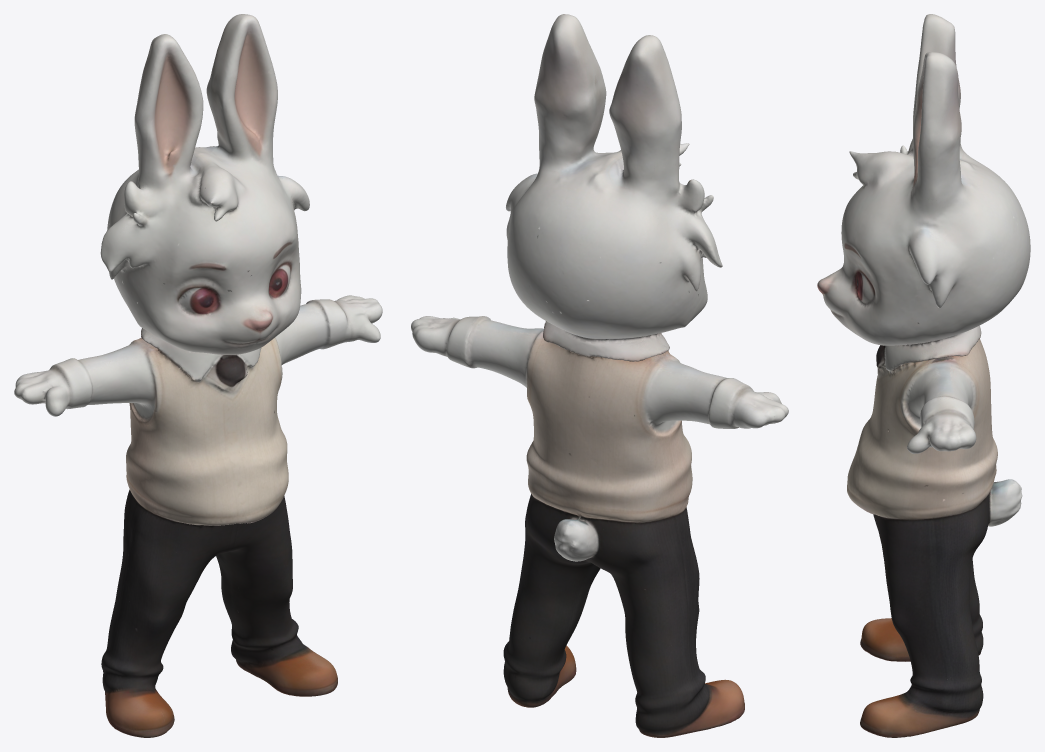
The model's file is Meshy_AI_Dapper_Bunny_0504092626_texture.fbx.
3 views of the same model, side by side, from view 1: azimuth 30°, elevation 25°; view 2: azimuth 150°, elevation 25°; view 3: azimuth 270°, elevation 25° (orthographic). The views are drawn at different scales.
Visible parts, largest first — view 1: Mesh_0; view 2: Mesh_0; view 3: Mesh_0.
Part boxes in pixels (box(x1,y1,x2,y2)): Mesh_0: box(14, 14, 382, 737); Mesh_0: box(411, 14, 788, 737); Mesh_0: box(817, 14, 1030, 737).
Bounding box in the file's own units: 114 × 200 × 58.99.
Materials: 1 (1 with a texture image).
